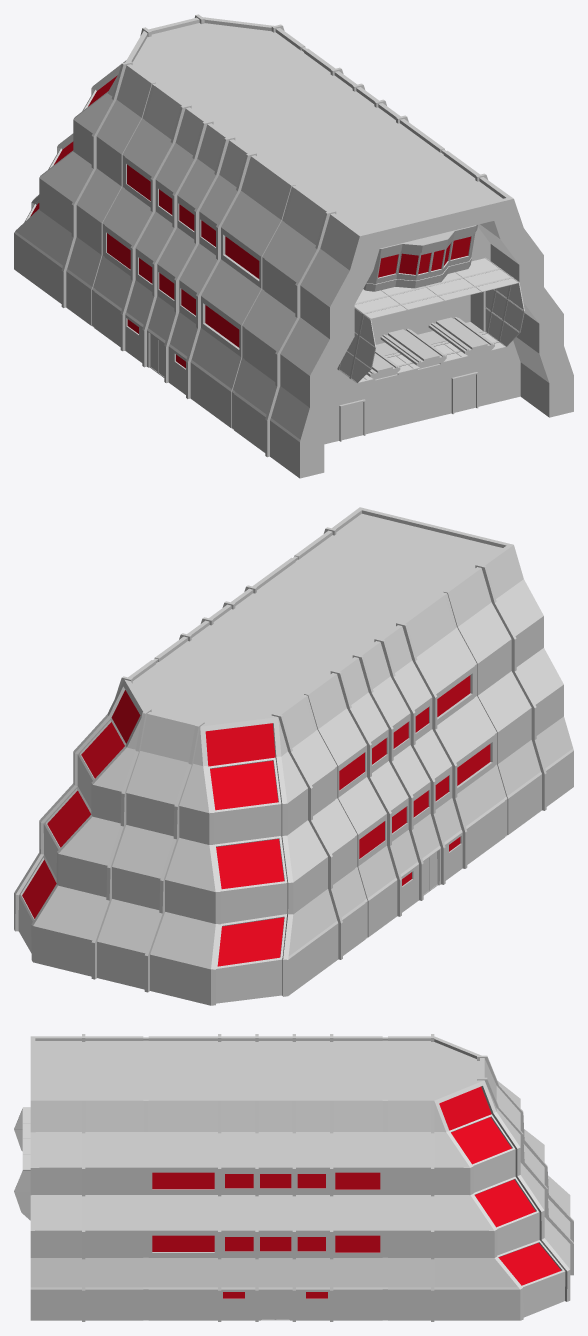
Rendered from SM_monorai_depot_01.glb.
The picture shows the model from 3 angles, top to bottom: view 1: azimuth 30°, elevation 25°; view 2: azimuth 150°, elevation 25°; view 3: azimuth 270°, elevation 25°; orthographic projection. The views are drawn at different scales.
Parts seen in each view (by area): view 1: monorai_depot_01; view 2: monorai_depot_01; view 3: monorai_depot_01.
Part boxes in pixels (left/top/right/bottom): monorai_depot_01: left=14, top=14, right=573, bottom=478; monorai_depot_01: left=14, top=507, right=573, bottom=1005; monorai_depot_01: left=14, top=1034, right=573, bottom=1321.
Bounding box in the file's own units: 12.23 × 9.57 × 24.78.
